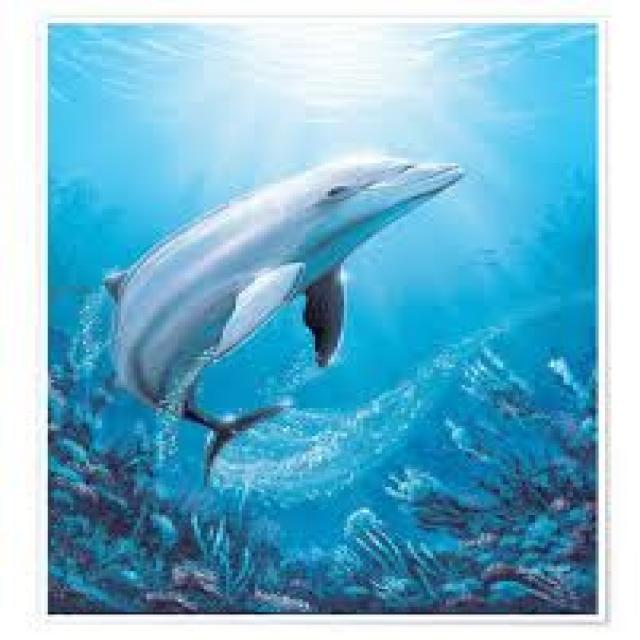dolphin: (92, 122, 478, 515)
